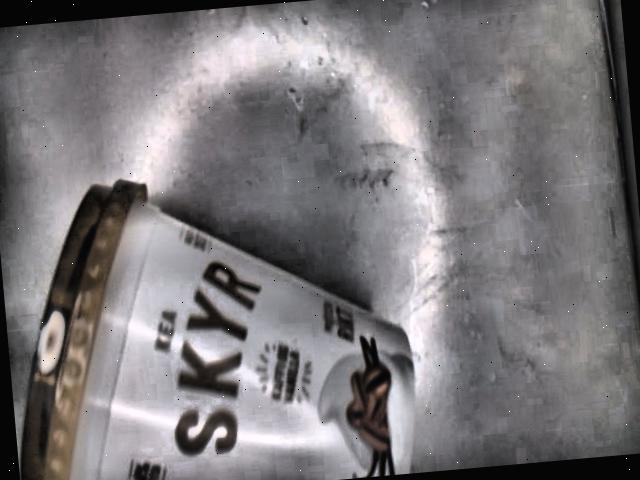Plastic: (17, 180, 422, 480)
